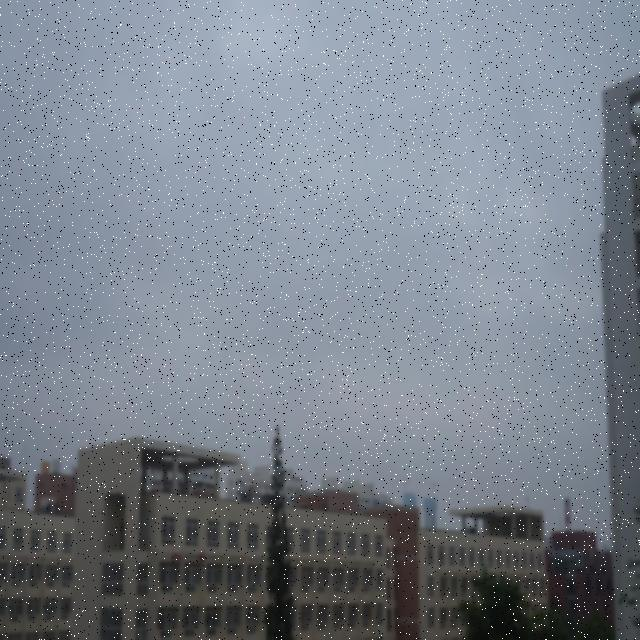UAV: (238, 479, 262, 499)
